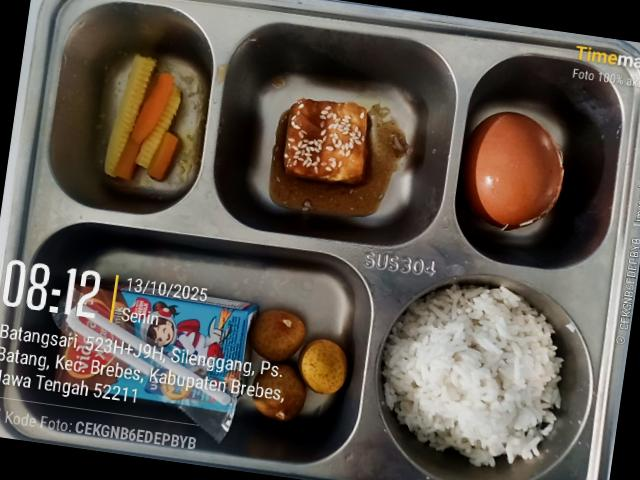buah: (250, 310, 348, 422)
nasi: (382, 284, 563, 467)
sayur: (104, 55, 181, 180)
susu: (54, 285, 258, 440)
tahu: (282, 99, 367, 184)
telur: (463, 112, 564, 230)
